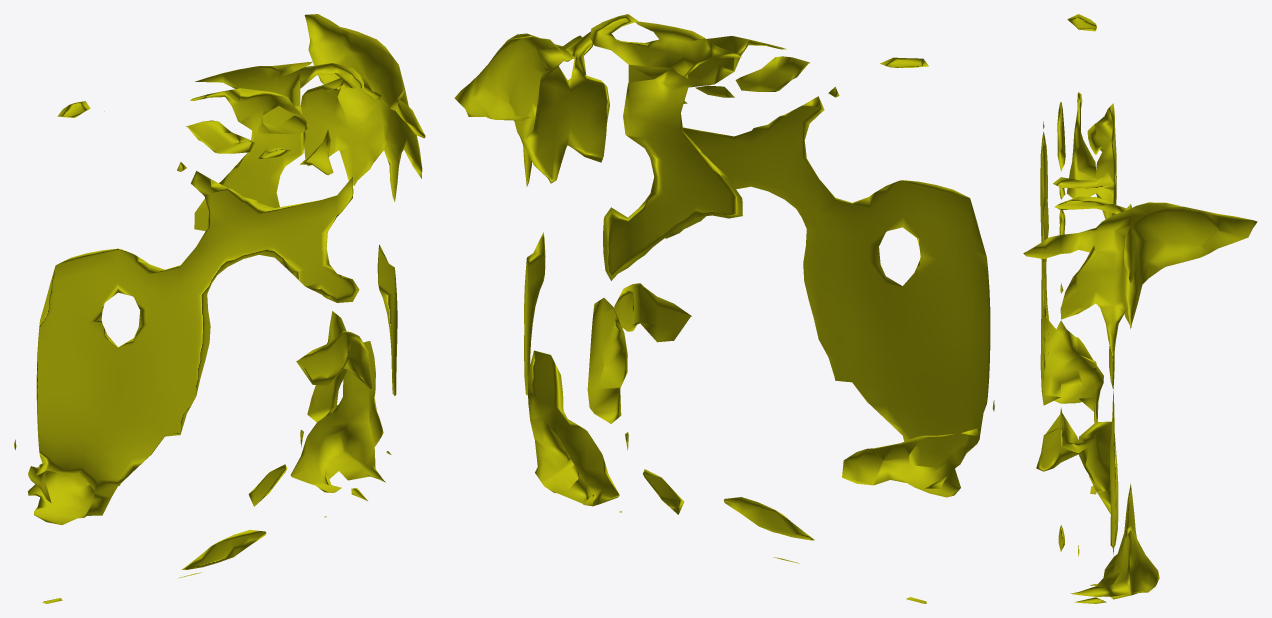
3 views of the same model, side by side, from view 1: azimuth 30°, elevation 25°; view 2: azimuth 150°, elevation 25°; view 3: azimuth 270°, elevation 25° (orthographic). The views are drawn at different scales.
Visible parts, largest first — view 1: world; view 2: world; view 3: world.
Boxes of the visible parts, bbox=[...] form: world: bbox=[14, 14, 425, 603]; world: bbox=[454, 14, 994, 603]; world: bbox=[1023, 14, 1257, 603].
Bounding box in the file's own units: 26.49 × 30.09 × 13.44.
